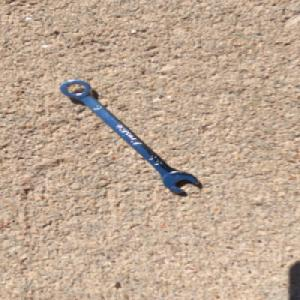Wrench: (58, 77, 204, 195)
